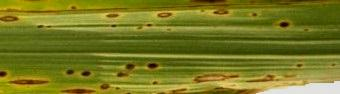0 BrownSpot: (242, 69, 296, 85), (8, 75, 51, 93), (189, 68, 242, 82), (153, 8, 180, 20), (59, 86, 95, 94), (102, 9, 123, 22), (211, 4, 230, 18), (274, 17, 295, 29), (62, 64, 78, 79), (79, 65, 94, 78), (31, 23, 54, 31), (123, 60, 137, 73), (115, 70, 134, 79), (144, 62, 161, 71), (1, 68, 9, 84), (95, 81, 111, 89), (248, 10, 263, 18), (1, 16, 21, 21), (149, 79, 161, 87), (65, 3, 78, 10)
